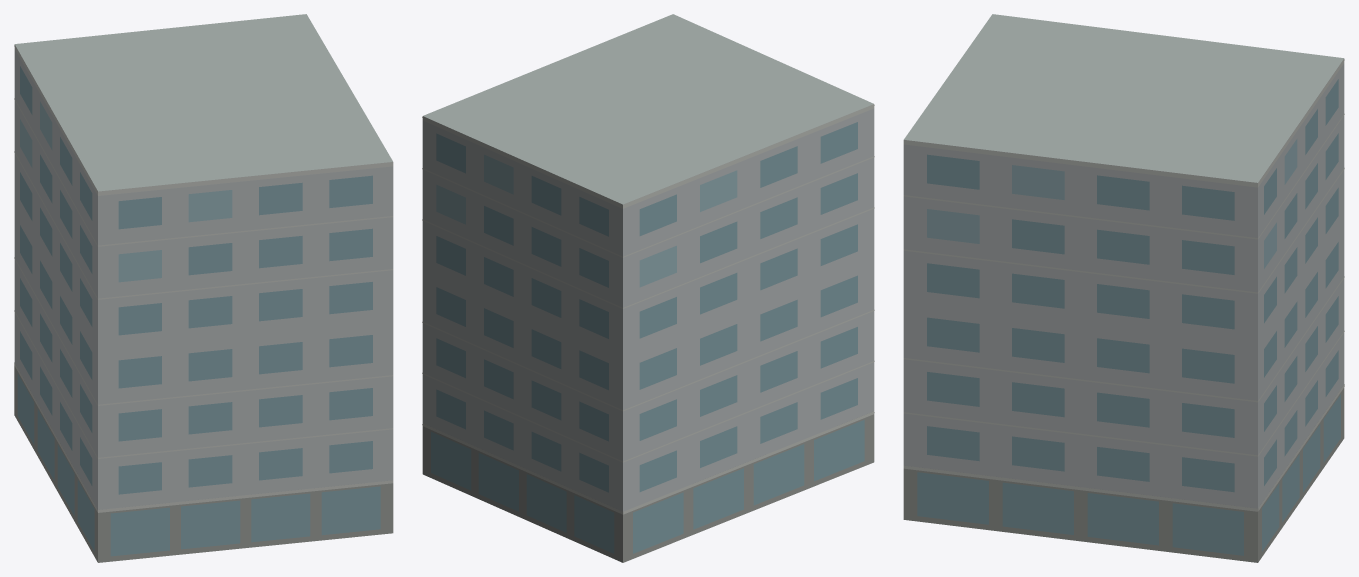
Rendered from survey-upis-32880105.glb.
3 renders of one model, left to right at view 1: azimuth 30°, elevation 25°; view 2: azimuth 150°, elevation 25°; view 3: azimuth 270°, elevation 25°, orthographic. The views are drawn at different scales.
Parts seen in each view (by area): view 1: survey-upis-32880105.tmp; view 2: survey-upis-32880105.tmp; view 3: survey-upis-32880105.tmp.
Boxes of the visible parts, x1,y1,x2,y2 form: survey-upis-32880105.tmp: (14,14,393,562); survey-upis-32880105.tmp: (422,14,874,562); survey-upis-32880105.tmp: (903,14,1344,562).
Size of the model in its own units: 19 by 19.9 by 20.94.
